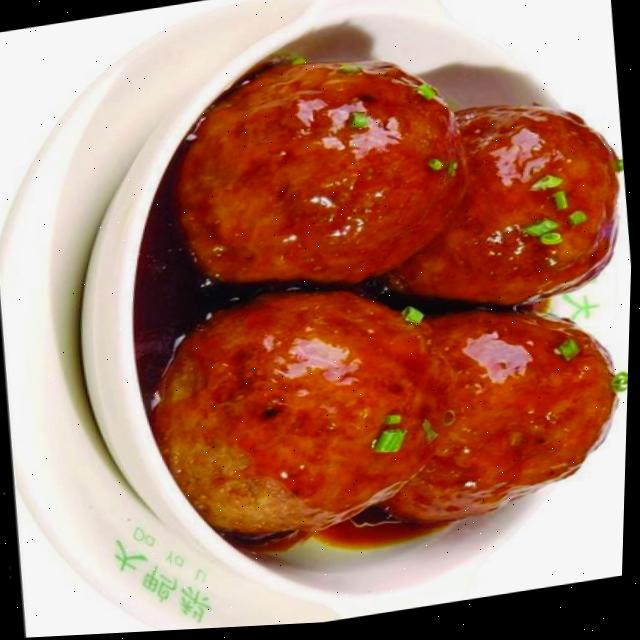猪肉菜式: (62, 0, 640, 621)
